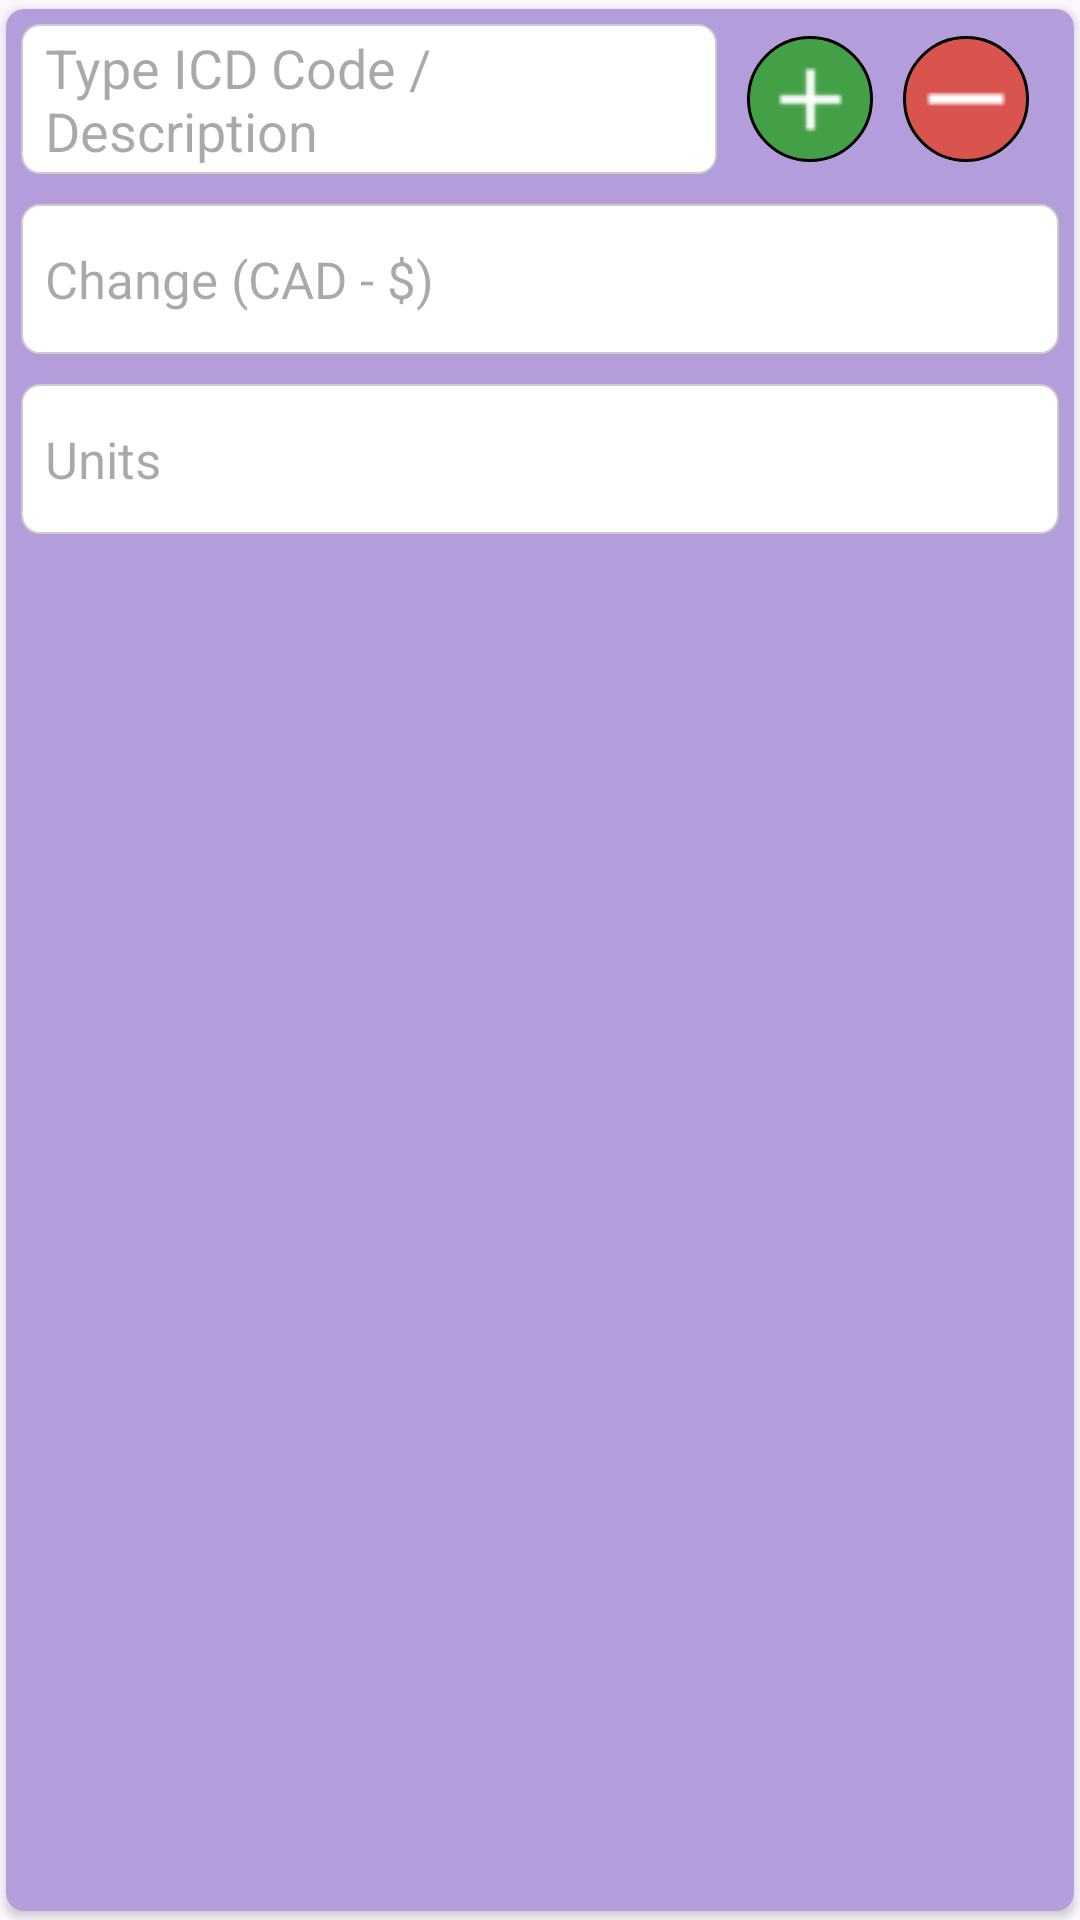

Icon click points for this 1080 × 1920 phone screenshot, format (x=x, y=y):
add: (x=810, y=99)
remove: (x=966, y=99)
